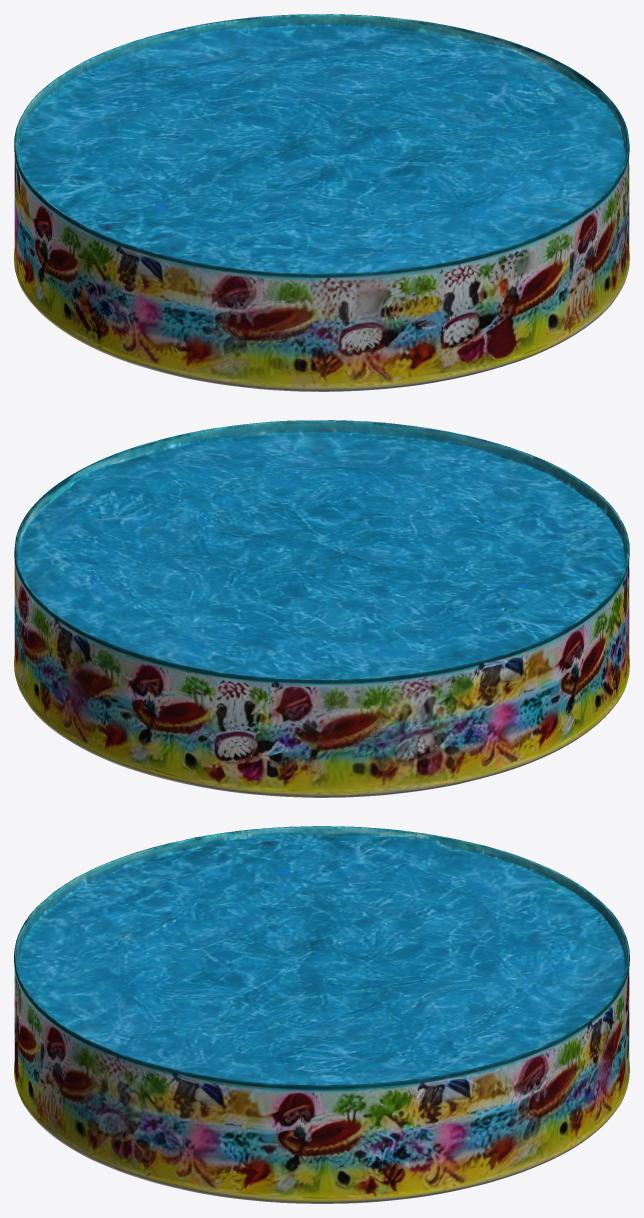
File: BAZIN COPII 183Х38СМ «SNAPSET»;  Bazin Copii 152x25cm «Snorkeling».glb
The picture shows the model from 3 angles, top to bottom: view 1: azimuth 30°, elevation 25°; view 2: azimuth 150°, elevation 25°; view 3: azimuth 270°, elevation 25°; orthographic projection.
Visible parts, largest first — view 1: tripo_node_1edc1d60-85a8-4d8a-a517-2187b994967e; view 2: tripo_node_1edc1d60-85a8-4d8a-a517-2187b994967e; view 3: tripo_node_1edc1d60-85a8-4d8a-a517-2187b994967e.
Part boxes in pixels (box(x1,y1,x2,y2)): tripo_node_1edc1d60-85a8-4d8a-a517-2187b994967e: box(14, 14, 629, 391); tripo_node_1edc1d60-85a8-4d8a-a517-2187b994967e: box(14, 420, 629, 797); tripo_node_1edc1d60-85a8-4d8a-a517-2187b994967e: box(14, 826, 629, 1203).
Bounding box in the file's own units: 1 × 0.2177 × 0.9996.
1 material, 1 textured.
